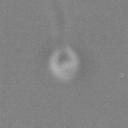normal: (48, 1, 81, 45)
